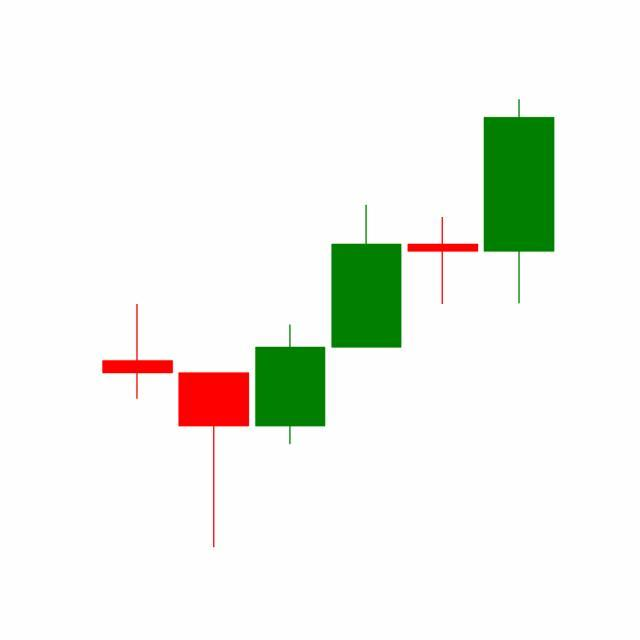Spinning Top: (404, 217, 482, 306)
